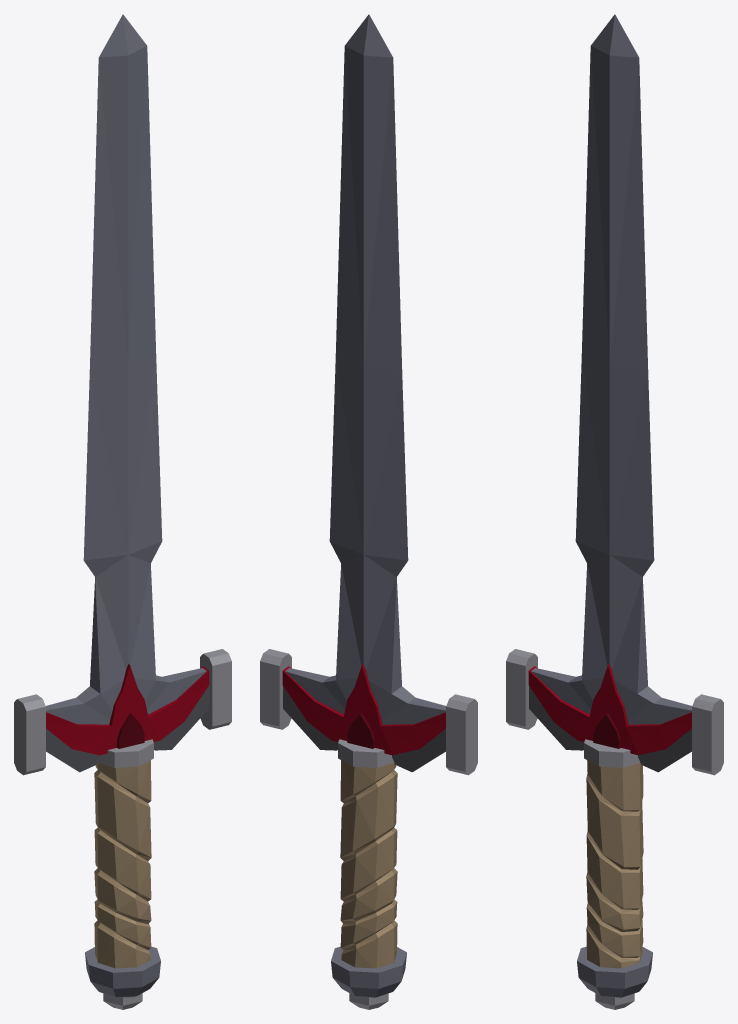
File: _sword_1.fbx
3 views of the same model, side by side, from view 1: azimuth 30°, elevation 25°; view 2: azimuth 150°, elevation 25°; view 3: azimuth 330°, elevation 25° (orthographic).
Parts seen in each view (by area): view 1: sword_1; view 2: sword_1; view 3: sword_1.
Boxes of the visible parts, x1=… form: sword_1: x1=14, y1=14, x2=231, y2=1009; sword_1: x1=260, y1=14, x2=477, y2=1009; sword_1: x1=506, y1=14, x2=723, y2=1009.
Size of the model in its own units: 18.14 by 83.86 by 6.03.
